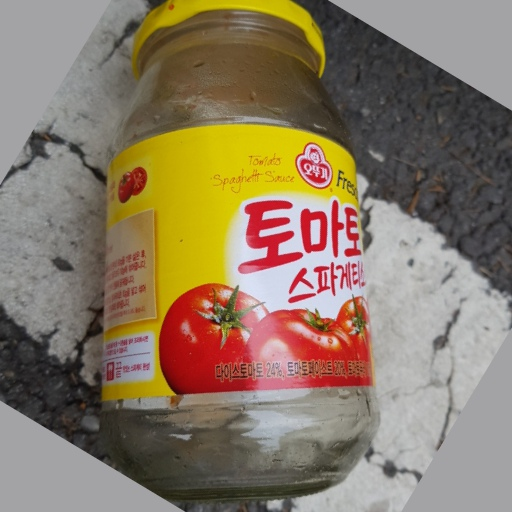Glass_5: (103, 1, 384, 498)
